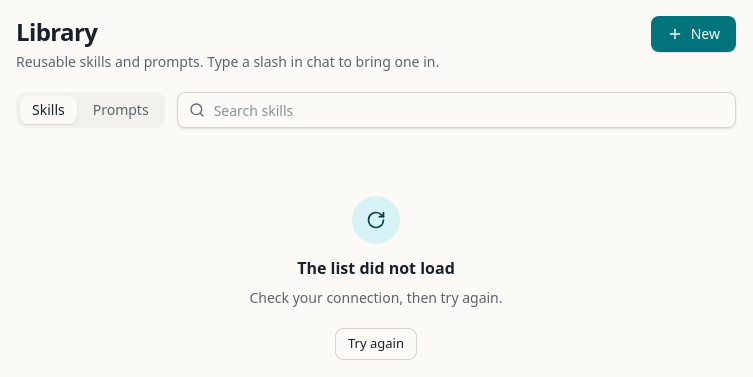
Test: load failures and semantics › does not show the 'no skills yet' empty state when loading failed, and retries on request
Expected: the heading "The list did not load" is shown, left=297, top=256, right=455, bottom=280
Click the button "Try again": (376, 344) left=335, top=328, right=417, bottom=360
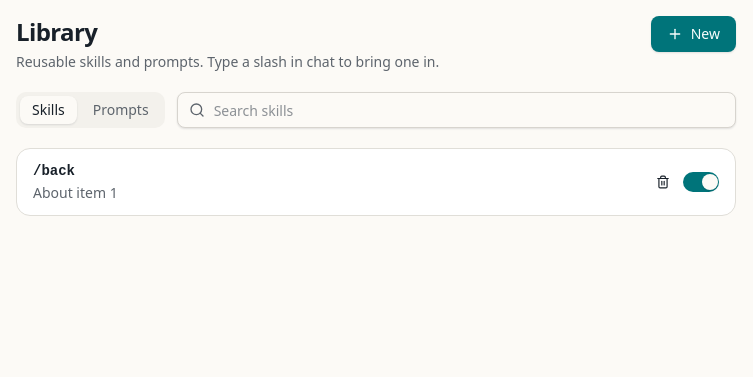
Expected: the text "/back" is shown, left=33, top=161, right=75, bottom=181
Expected: the heading "The list did not load" is gone
